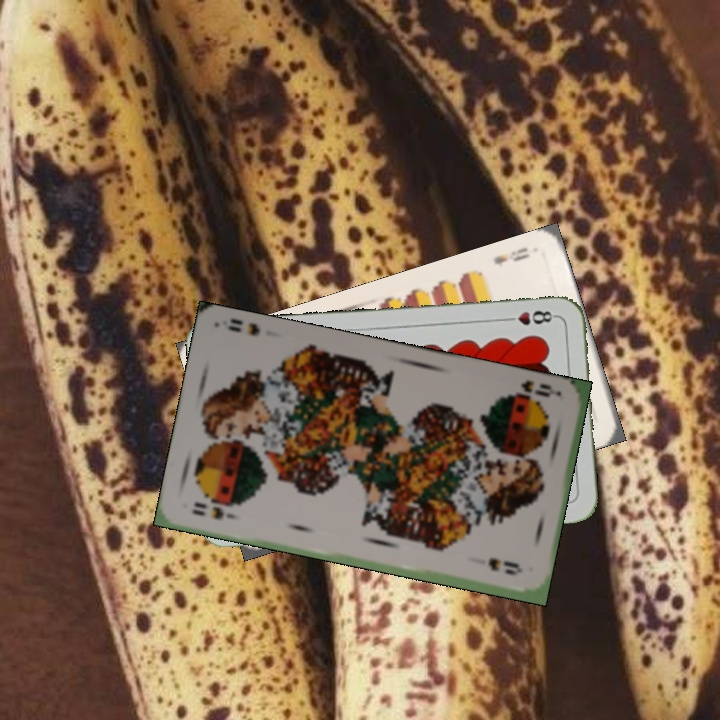E9: (489, 243, 533, 270)
H8: (500, 307, 559, 328)
SO: (502, 376, 563, 404), (188, 498, 239, 522)
